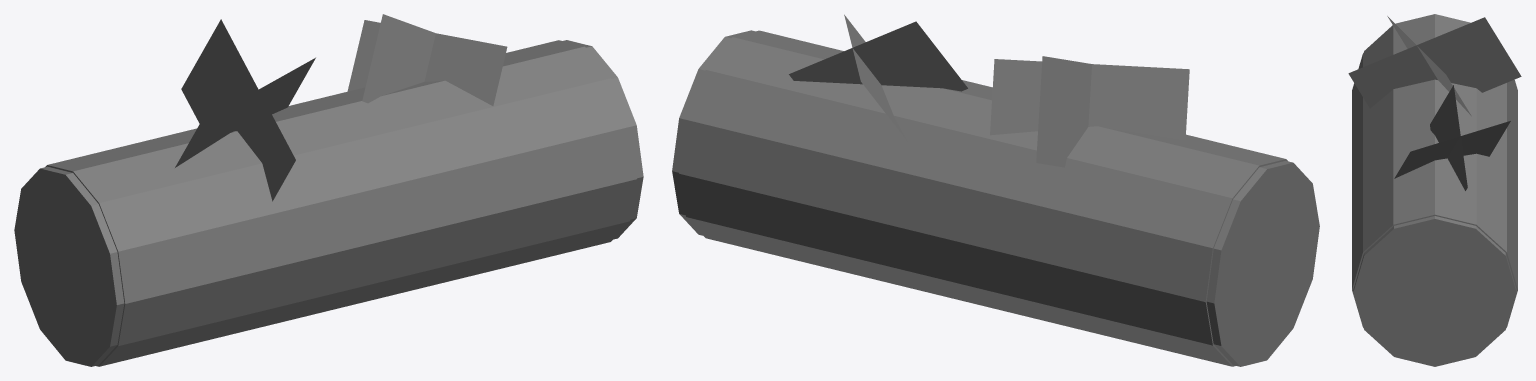
File: log-fallen.glb
3 views of the same model, side by side, from view 1: azimuth 30°, elevation 25°; view 2: azimuth 150°, elevation 25°; view 3: azimuth 270°, elevation 25° (orthographic). The views are drawn at different scales.
Visible parts, largest first — view 1: body, end, leafcard.002, leafcard.003, leafcard, leafcard.001, end.001; view 2: body, end, leafcard.001, leafcard, leafcard.002, end.001, leafcard.003; view 3: body, end.001, leafcard.002, leafcard.003, leafcard, leafcard.001, end.
Boxes of the visible parts, left/top/right/bottom form: body: left=45, top=40, right=636, bottom=366; end: left=14, top=166, right=124, bottom=366; leafcard.002: left=181, top=19, right=295, bottom=201; leafcard.003: left=347, top=20, right=507, bottom=105; leafcard: left=362, top=14, right=435, bottom=103; leafcard.001: left=175, top=57, right=315, bottom=167; end.001: left=563, top=40, right=643, bottom=239; body: left=679, top=30, right=1287, bottom=366; end: left=1206, top=161, right=1319, bottom=366; leafcard.001: left=990, top=59, right=1189, bottom=139; leafcard: left=789, top=21, right=967, bottom=91; leafcard.002: left=1036, top=56, right=1091, bottom=167; end.001: left=672, top=30, right=754, bottom=235; leafcard.003: left=844, top=14, right=907, bottom=141; body: left=1352, top=15, right=1517, bottom=327; end.001: left=1353, top=216, right=1516, bottom=366; leafcard.002: left=1348, top=17, right=1521, bottom=108; leafcard.003: left=1394, top=121, right=1510, bottom=178; leafcard: left=1430, top=85, right=1467, bottom=190; leafcard.001: left=1387, top=16, right=1471, bottom=116; end: left=1364, top=14, right=1470, bottom=51.
Bounding box in the file's own units: 1.75 × 0.872 × 0.6258.
3 materials, 3 textured.
